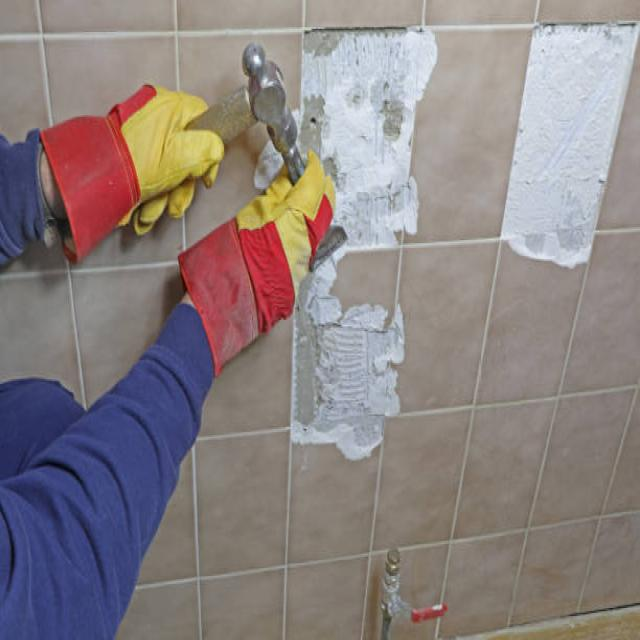gloves: (176, 150, 334, 374), (36, 86, 225, 261)
